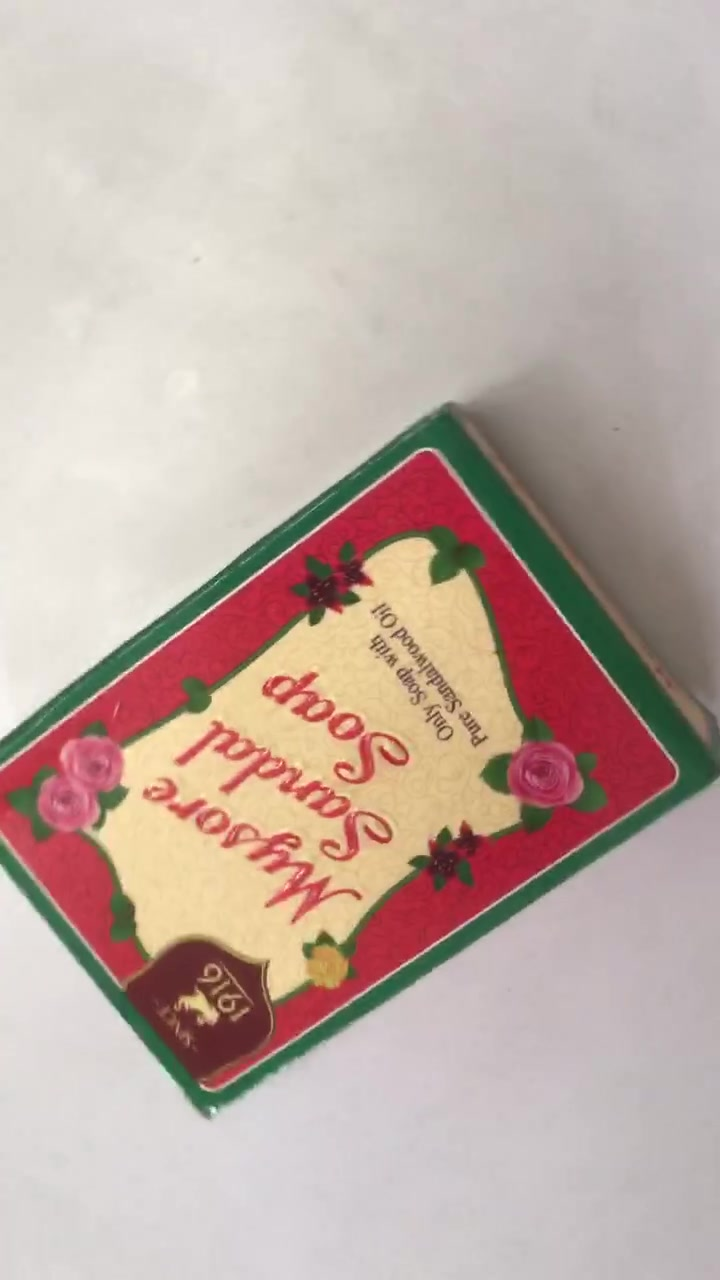mysore sandal soap: (6, 414, 717, 1123)
